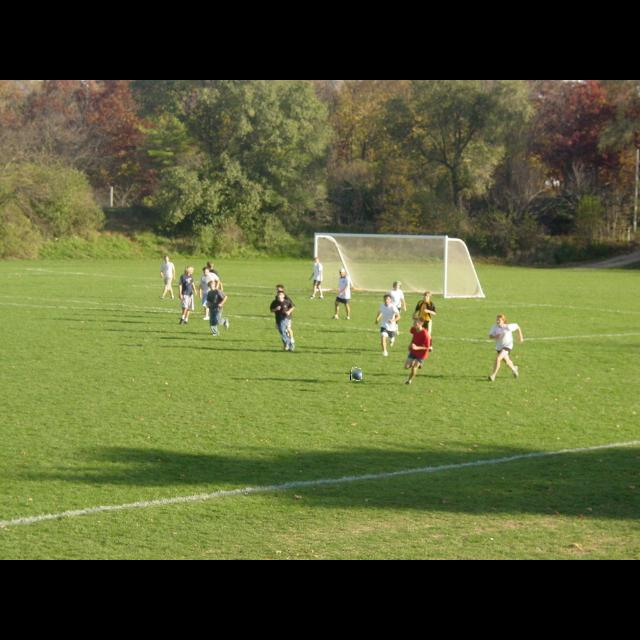Football: (350, 368, 362, 380)
